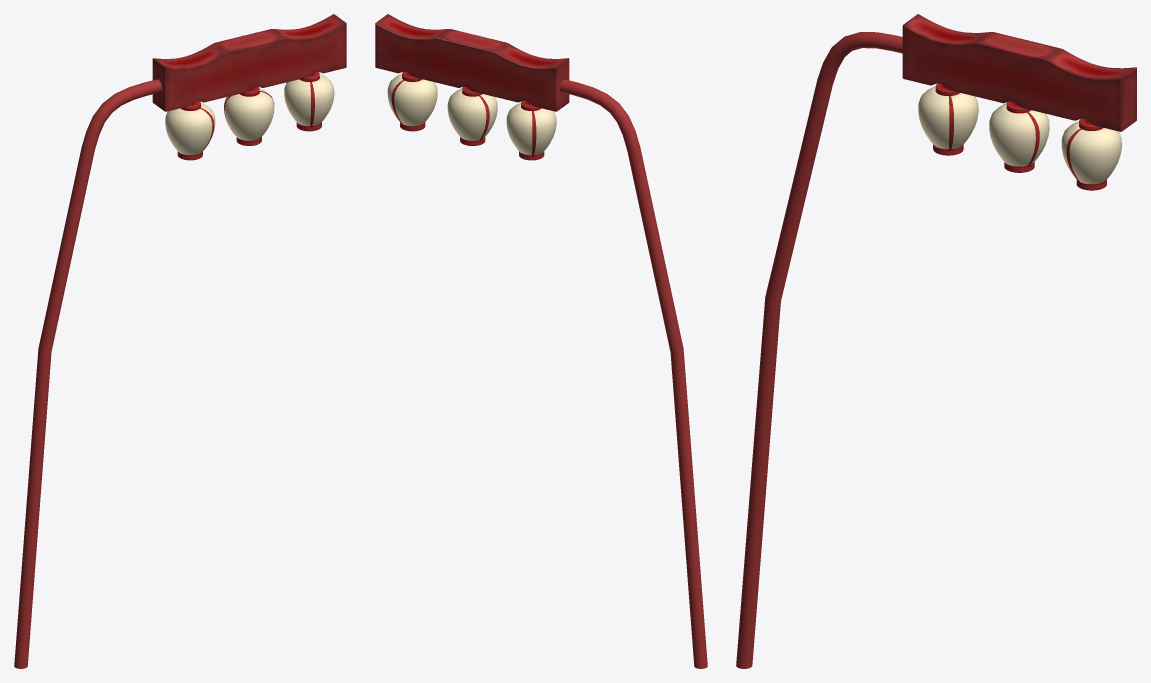
File: lampadas_liberdade.fbx
3 views of the same model, side by side, from view 1: azimuth 30°, elevation 25°; view 2: azimuth 150°, elevation 25°; view 3: azimuth 330°, elevation 25° (orthographic). The views are drawn at different scales.
Visible parts, largest first — view 1: Lampadas_Liberdade; view 2: Lampadas_Liberdade; view 3: Lampadas_Liberdade.
Boxes of the visible parts, bbox=[...] form: Lampadas_Liberdade: bbox=[14, 14, 346, 668]; Lampadas_Liberdade: bbox=[375, 14, 707, 668]; Lampadas_Liberdade: bbox=[736, 14, 1136, 668].
Size of the model in its own units: 230 by 384 by 30.69.
